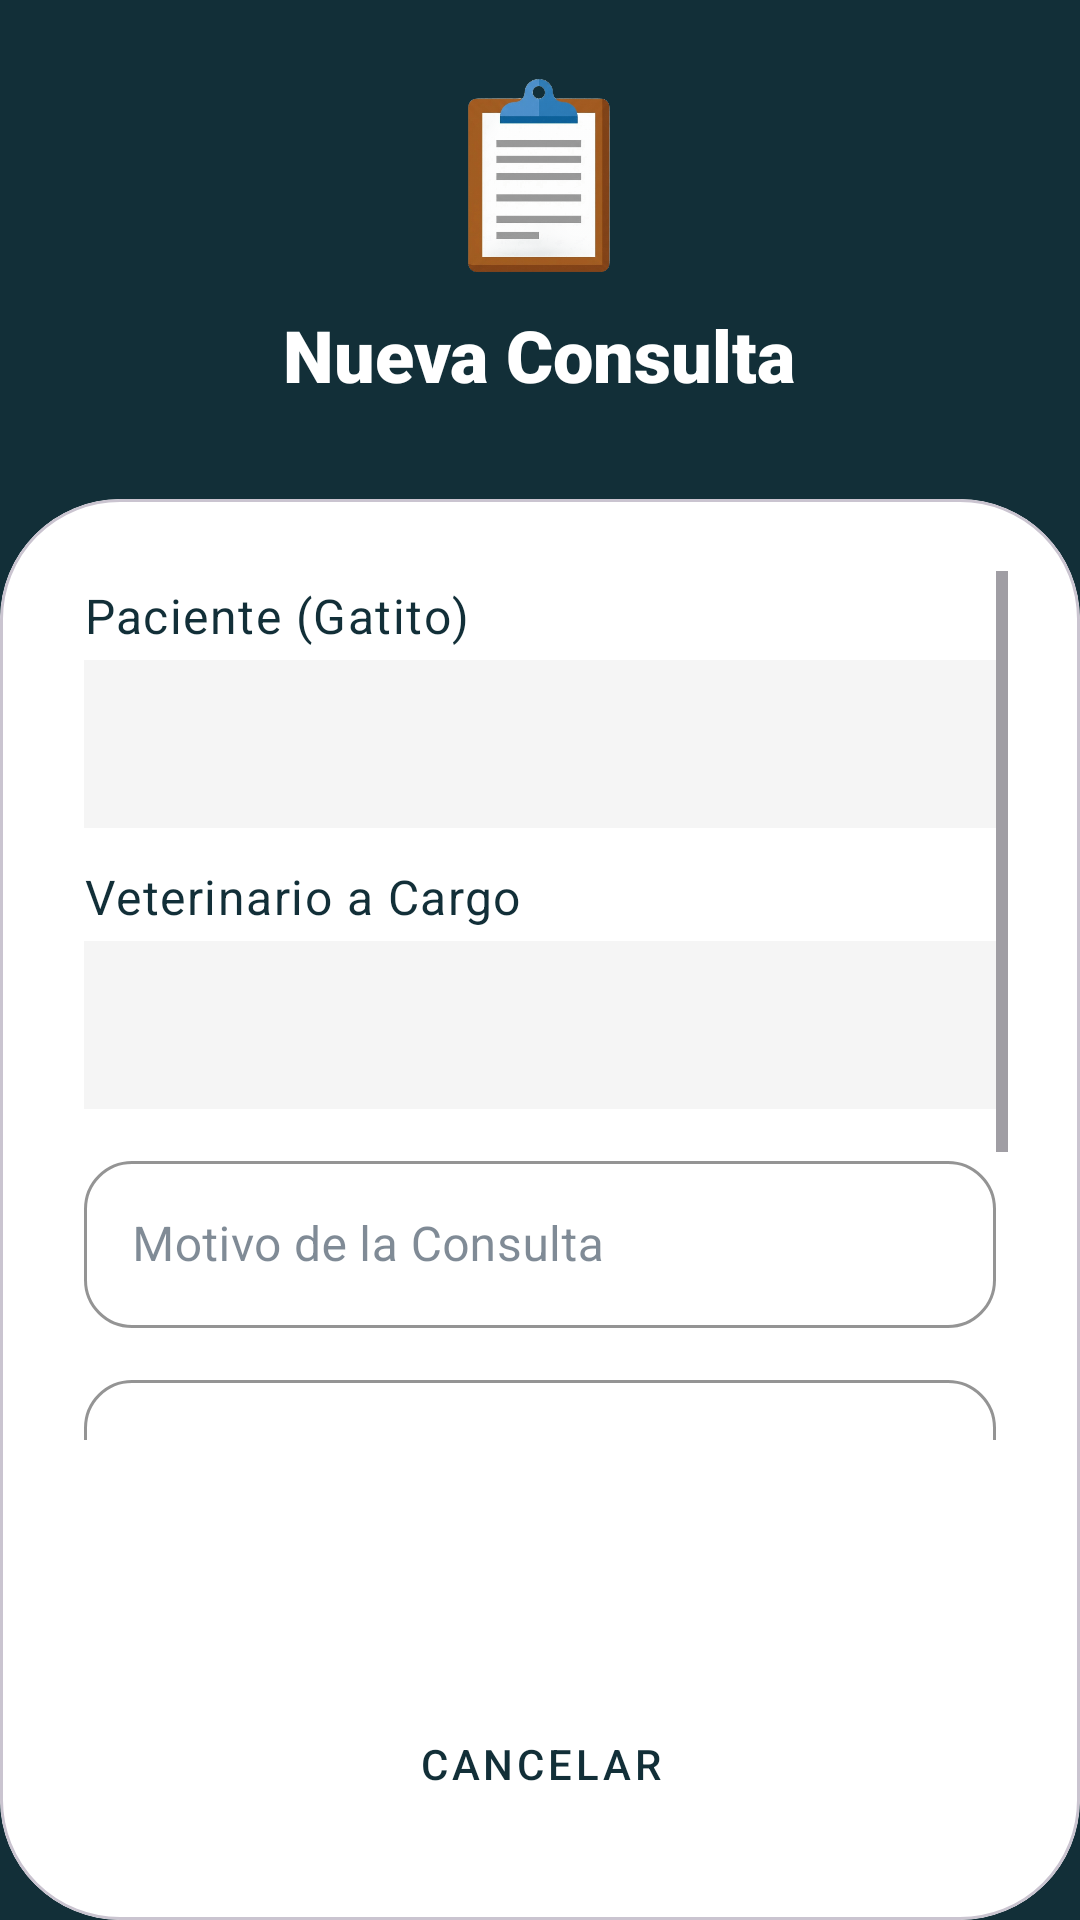

Where to tap for icons on this 1080 × 1920 app screen, as (x=x, y=y):
Icono Registro: (x=539, y=175)
